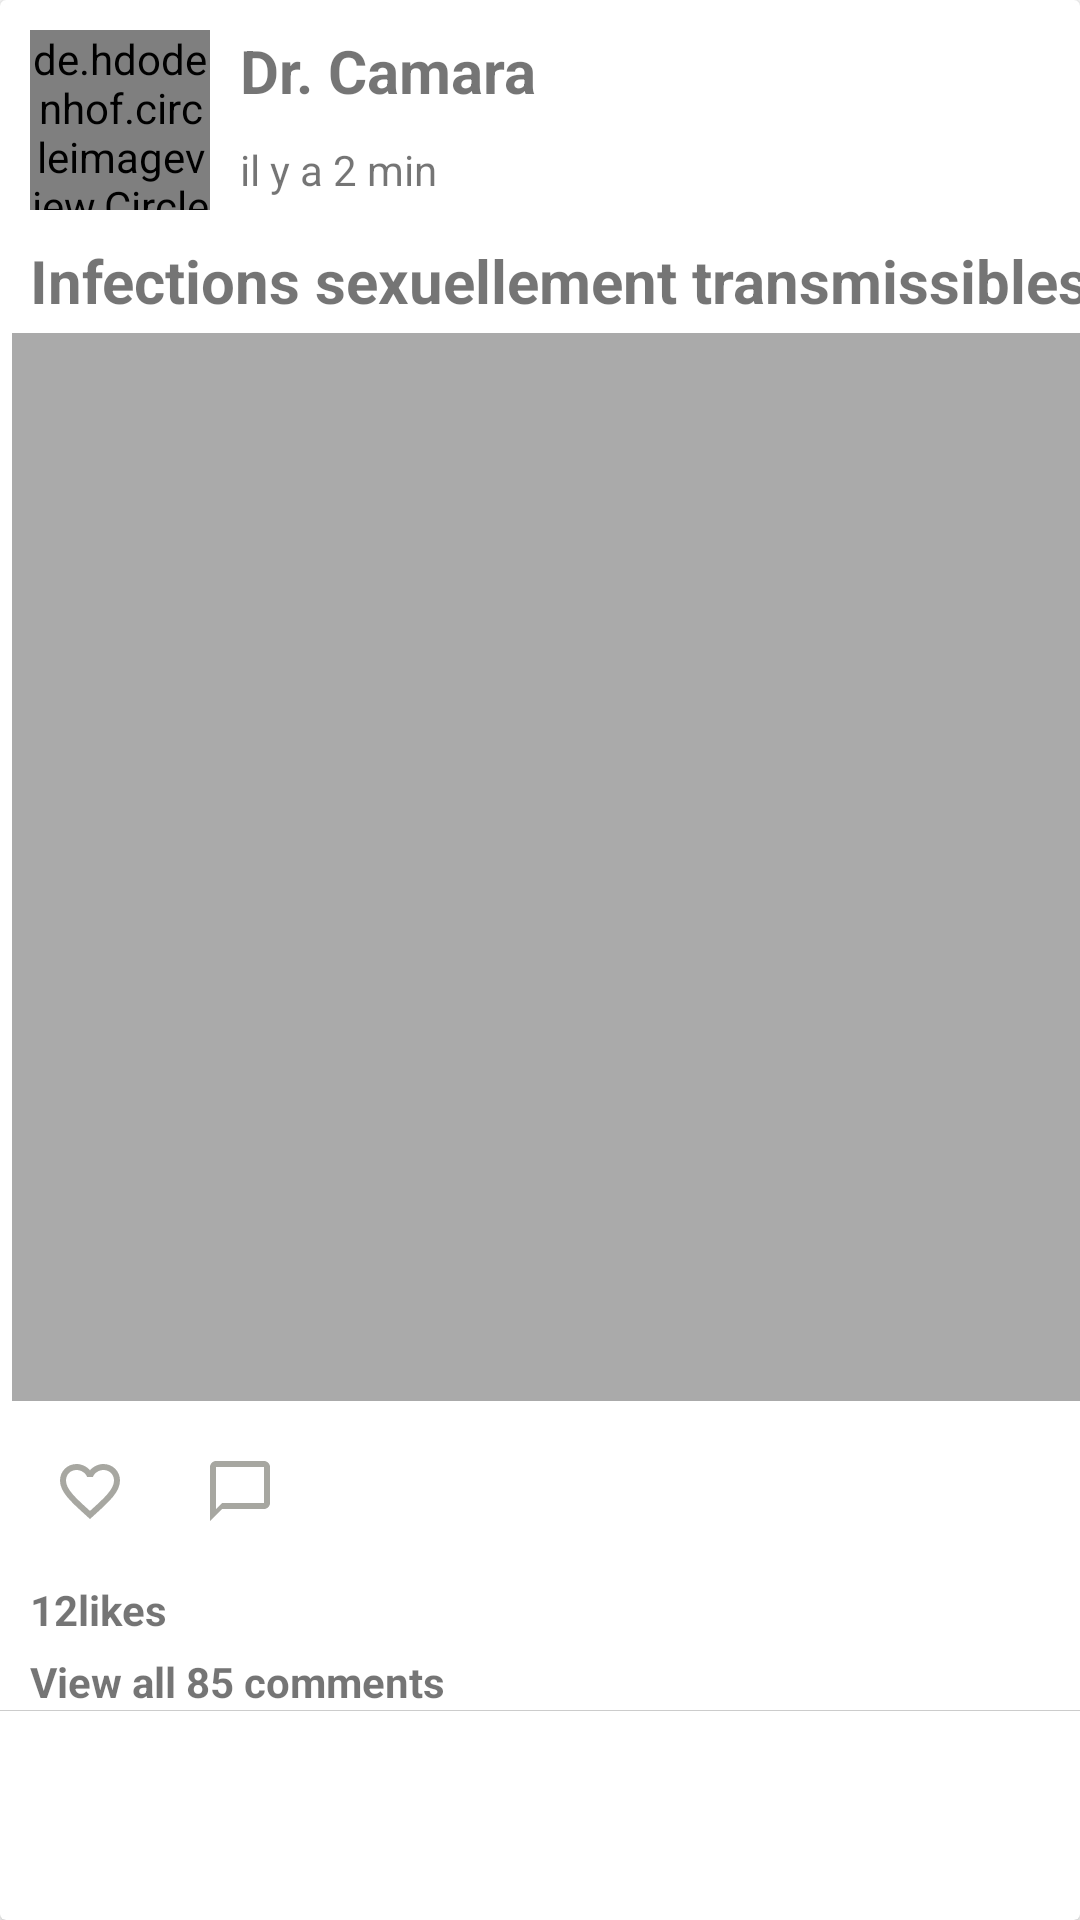

Screen size 1080px×1920px. Icon name, then its center in pixels as point (x, y):
chat bubble: point (240, 1491)
favorite: point (90, 1491)
